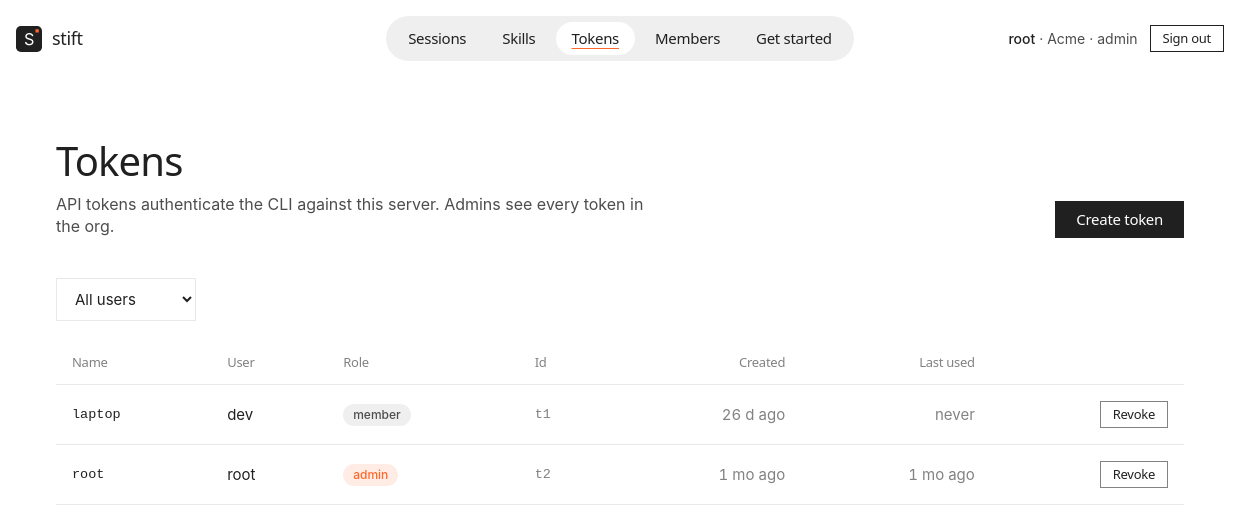
it: admins filter the org's tokens by user
The image size is (1241, 522).
Expected: the text "laptop" is shown, [56,385,211,445]
Select "dev" in the dropdown named "User" at (126, 299), box [56,278,196,321]
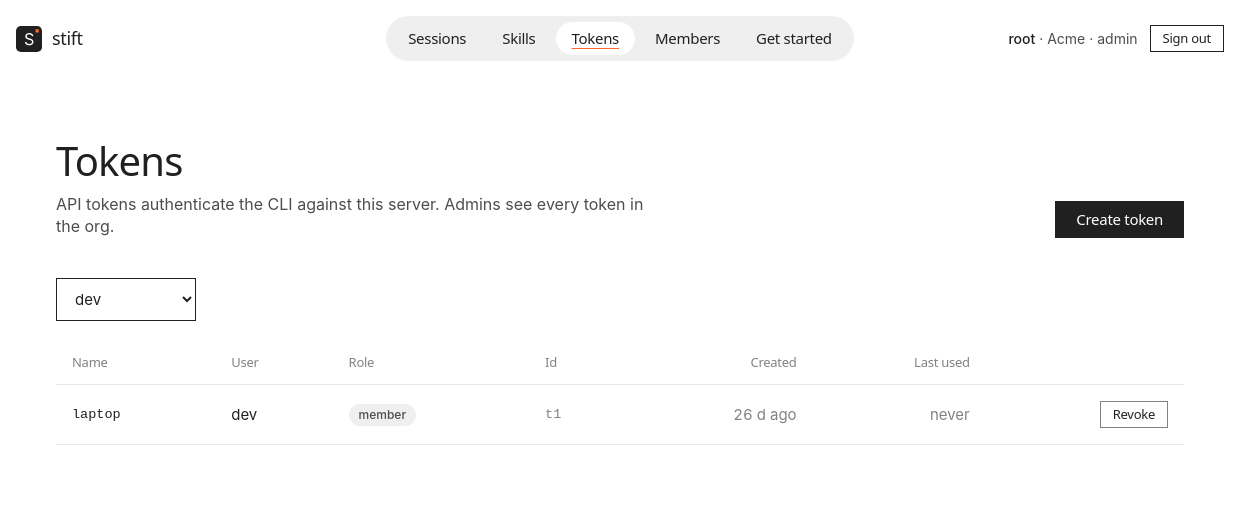
Expected: the text "laptop" is shown, [56,385,215,445]
Select "All users" in the dropdown named "User" at (126, 299), box [56,278,196,321]
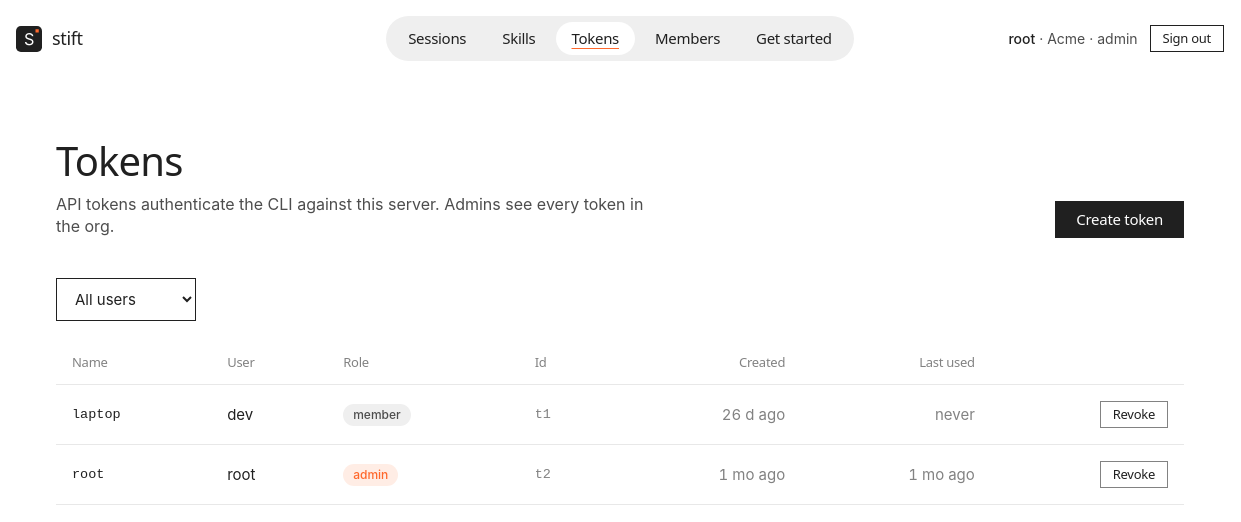
Expected: the 1st text "root" is shown, [56,445,211,505]
